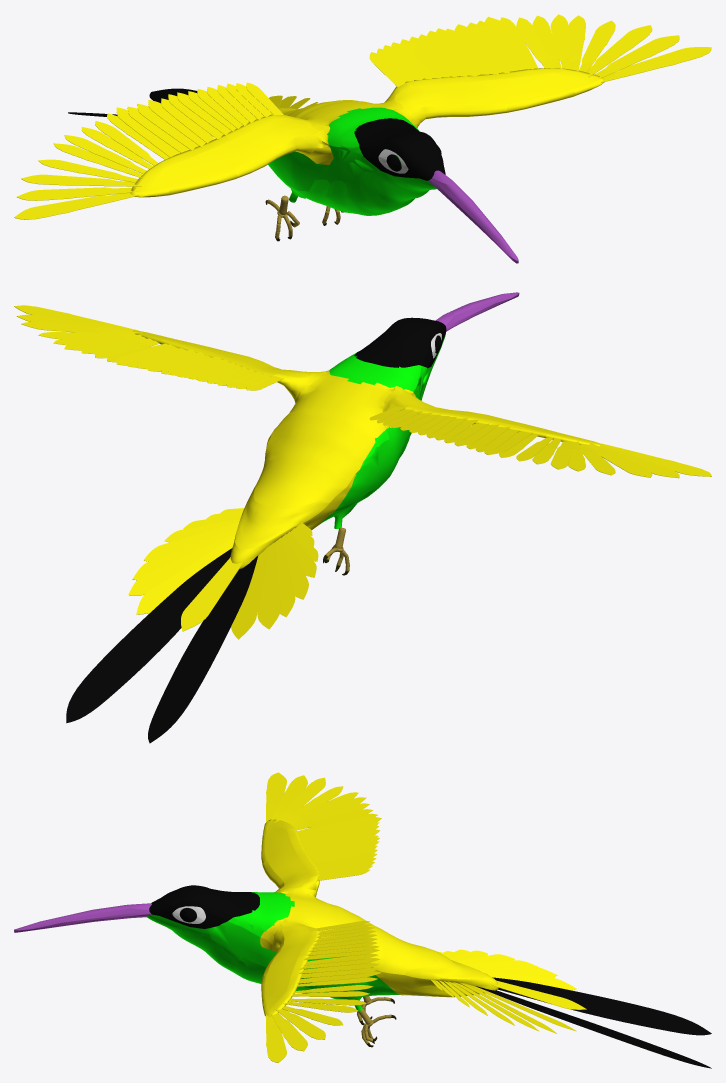
The model's file is hummingbird.obj.
The picture shows the model from 3 angles, top to bottom: view 1: azimuth 30°, elevation 25°; view 2: azimuth 150°, elevation 25°; view 3: azimuth 270°, elevation 25°; orthographic projection. The views are drawn at different scales.
Visible parts, largest first — view 1: Body01, Bodu, Chub, Kluv, RFeath01, LFeath01, LFeath02, RFeath02, LFeath03, RFeath03, LFeath04, LFeath06 (+7 smaller); view 2: Body01, Pero01, Pero02, Bodu, Chub, Kluv, RFeath01, LFeath01, LFeath03; view 3: Body01, Bodu, Pero02, Chub, Pero01, Kluv, LFeath01, RFeath01, RFeath03, LFeath02, RFeath02, LFeath03 (+1 smaller).
Boxes of the visible parts, left/top/right/bottom form: Body01: left=95, top=16, right=604, bottom=197; Bodu: left=268, top=107, right=436, bottom=215; Chub: left=354, top=118, right=445, bottom=180; Kluv: left=428, top=170, right=518, bottom=263; RFeath01: left=14, top=193, right=138, bottom=219; LFeath01: left=601, top=47, right=711, bottom=82; LFeath02: left=594, top=35, right=679, bottom=79; RFeath02: left=17, top=187, right=136, bottom=200; LFeath03: left=587, top=25, right=652, bottom=77; RFeath03: left=21, top=174, right=141, bottom=186; LFeath04: left=579, top=20, right=615, bottom=72; LFeath06: left=550, top=14, right=570, bottom=69; Body01: left=95, top=330, right=603, bottom=639; Pero01: left=66, top=548, right=232, bottom=723; Pero02: left=148, top=555, right=258, bottom=743; Bodu: left=319, top=333, right=445, bottom=524; Chub: left=354, top=317, right=446, bottom=367; Kluv: left=436, top=292, right=519, bottom=336; RFeath01: left=601, top=443, right=711, bottom=476; LFeath01: left=14, top=305, right=138, bottom=330; LFeath03: left=21, top=322, right=141, bottom=333; Body01: left=260, top=809, right=586, bottom=1033; Bodu: left=146, top=892, right=402, bottom=996; Pero02: left=492, top=977, right=711, bottom=1035; Chub: left=149, top=885, right=259, bottom=928; Pero01: left=476, top=986, right=711, bottom=1068; Kluv: left=14, top=903, right=151, bottom=932; LFeath01: left=266, top=1014, right=286, bottom=1062; RFeath01: left=266, top=772, right=286, bottom=822; RFeath03: left=275, top=777, right=325, bottom=822; LFeath02: left=270, top=1013, right=307, bottom=1051; RFeath02: left=270, top=775, right=307, bottom=821; LFeath03: left=275, top=1008, right=325, bottom=1039.
Size of the model in its own units: 925 by 238 by 939.
